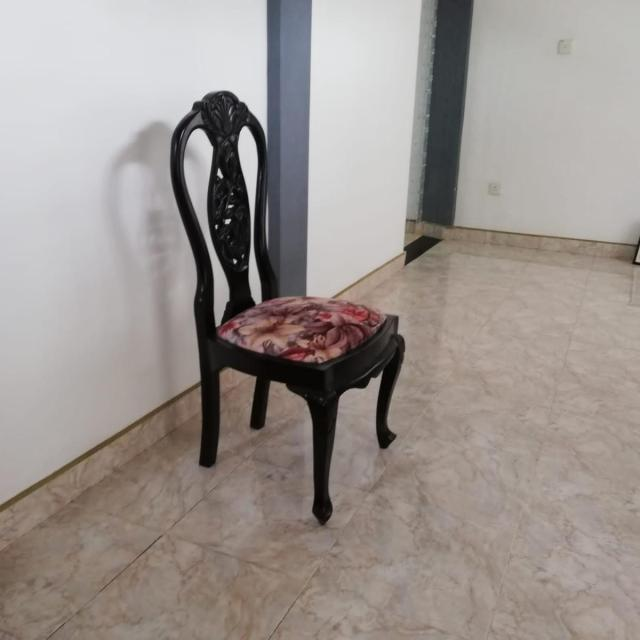chair: (168, 85, 414, 528)
